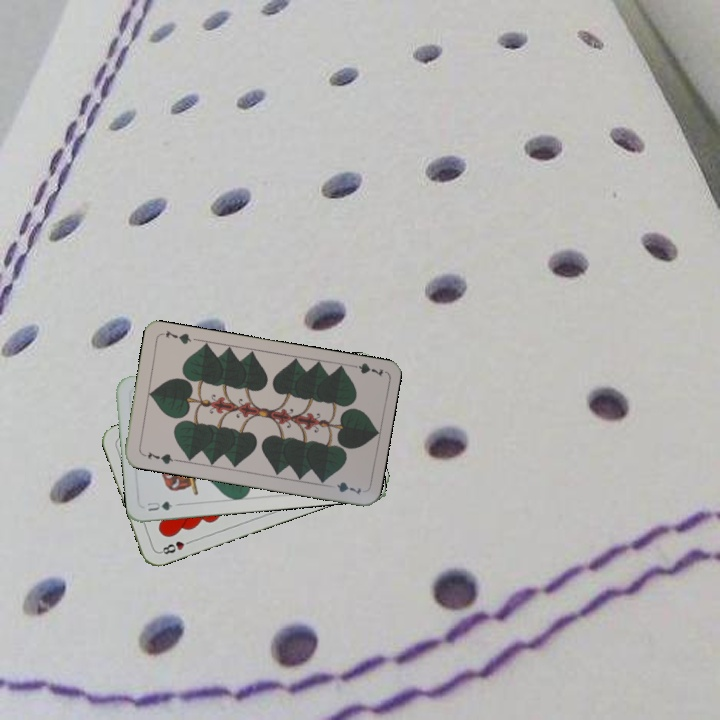G7: (345, 359, 385, 379), (138, 448, 179, 467)
GU: (143, 497, 175, 514)
H8: (156, 536, 195, 557)
